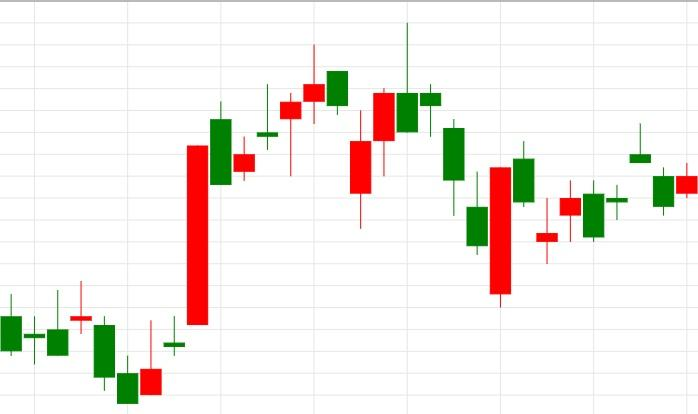bullish_engulfing_rise: (397, 23, 511, 307)
